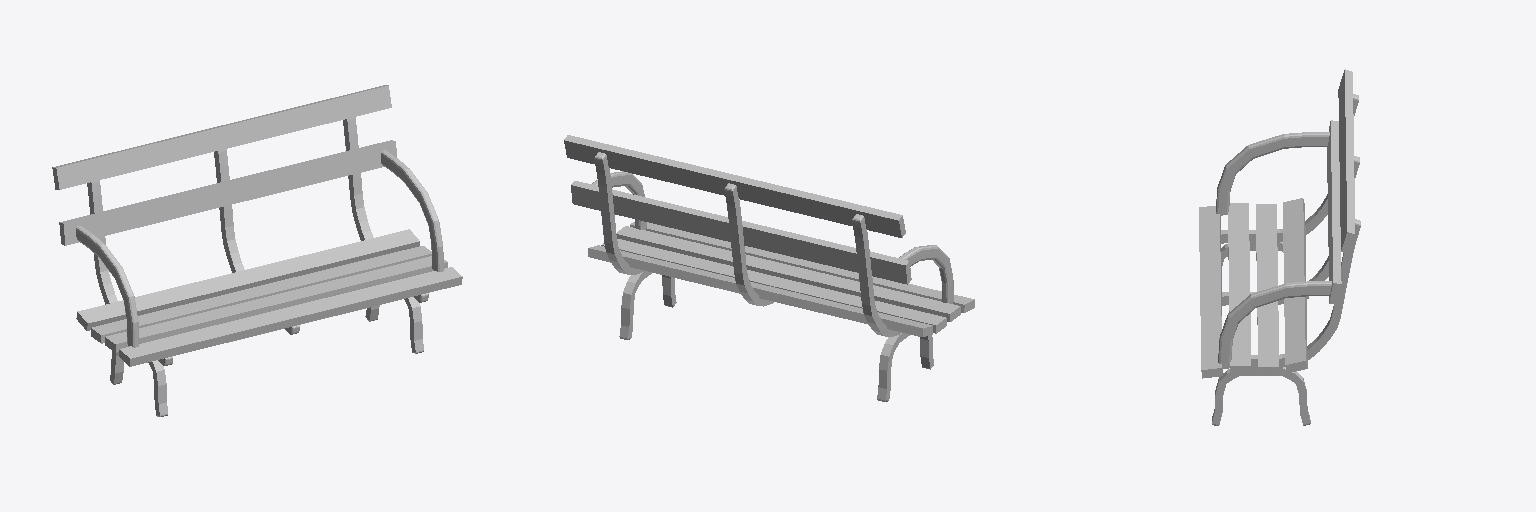
The model's file is Bench_Shop.obj.
The picture shows the model from 3 angles: view 1: azimuth 30°, elevation 25°; view 2: azimuth 150°, elevation 25°; view 3: azimuth 270°, elevation 25°; orthographic projection.
Visible parts, largest first — view 1: Bench4 City_Decor Bench_Bar9, Bench4 City_Decor Bench_Bar7, Bench4 City_Decor Bench_Bar3, Bench4 City_Decor Bench_Bar4, Bench4 City_Decor Bench_Bar2, Bench_Bar1 Bench4 City_Decor, Bench4 City_Decor Bench_Handrest1, Bench4 City_Decor Bench_Handrest2, Bench4 City_Decor Bench_Support3, Bench4 City_Decor Bench_Support2, Bench4 City_Decor Bench_Support1, Bench4 City_Decor Bench_Leg1 (+1 smaller); view 2: Bench4 City_Decor Bench_Bar9, Bench4 City_Decor Bench_Bar7, Bench4 City_Decor Bench_Bar2, Bench4 City_Decor Bench_Bar4, Bench_Bar1 Bench4 City_Decor, Bench4 City_Decor Bench_Bar3, Bench4 City_Decor Bench_Support1, Bench4 City_Decor Bench_Support3, Bench4 City_Decor Bench_Support2, Bench4 City_Decor Bench_Handrest1, Bench4 City_Decor Bench_Leg2, Bench4 City_Decor Bench_Leg4 (+1 smaller); view 3: Bench4 City_Decor Bench_Bar3, Bench4 City_Decor Bench_Bar4, Bench_Bar1 Bench4 City_Decor, Bench4 City_Decor Bench_Bar2, Bench4 City_Decor Bench_Bar9, Bench4 City_Decor Bench_Handrest2, Bench4 City_Decor Bench_Handrest1, Bench4 City_Decor Bench_Bar7, Bench4 City_Decor Bench_Support3, Bench4 City_Decor Bench_Support1, Bench4 City_Decor Bench_Leg4, Bench4 City_Decor Bench_Leg3.
Part boxes in pixels (bbox=[...]): Bench4 City_Decor Bench_Bar9: bbox=[52, 85, 391, 189]; Bench4 City_Decor Bench_Bar7: bbox=[59, 140, 396, 245]; Bench4 City_Decor Bench_Bar3: bbox=[119, 267, 462, 366]; Bench4 City_Decor Bench_Bar4: bbox=[76, 229, 419, 330]; Bench4 City_Decor Bench_Bar2: bbox=[105, 256, 447, 352]; Bench_Bar1 Bench4 City_Decor: bbox=[91, 246, 431, 343]; Bench4 City_Decor Bench_Handrest1: bbox=[76, 226, 138, 347]; Bench4 City_Decor Bench_Handrest2: bbox=[381, 150, 443, 271]; Bench4 City_Decor Bench_Support3: bbox=[343, 117, 428, 302]; Bench4 City_Decor Bench_Support2: bbox=[214, 149, 299, 334]; Bench4 City_Decor Bench_Support1: bbox=[87, 180, 172, 365]; Bench4 City_Decor Bench_Leg1: bbox=[148, 360, 167, 416]; Bench4 City_Decor Bench_Bar9: bbox=[564, 135, 905, 237]; Bench4 City_Decor Bench_Bar7: bbox=[571, 181, 911, 284]; Bench4 City_Decor Bench_Bar2: bbox=[616, 226, 960, 321]; Bench4 City_Decor Bench_Bar4: bbox=[588, 245, 932, 336]; Bench_Bar1 Bench4 City_Decor: bbox=[601, 239, 946, 333]; Bench4 City_Decor Bench_Bar3: bbox=[630, 222, 974, 312]; Bench4 City_Decor Bench_Support1: bbox=[852, 214, 901, 336]; Bench4 City_Decor Bench_Support3: bbox=[594, 152, 643, 274]; Bench4 City_Decor Bench_Support2: bbox=[724, 183, 773, 306]; Bench4 City_Decor Bench_Handrest1: bbox=[899, 245, 953, 303]; Bench4 City_Decor Bench_Leg2: bbox=[877, 333, 909, 401]; Bench4 City_Decor Bench_Leg4: bbox=[619, 271, 651, 339]; Bench4 City_Decor Bench_Bar3: bbox=[1199, 206, 1222, 378]; Bench4 City_Decor Bench_Bar4: bbox=[1283, 198, 1307, 372]; Bench_Bar1 Bench4 City_Decor: bbox=[1256, 204, 1278, 375]; Bench4 City_Decor Bench_Bar2: bbox=[1228, 203, 1250, 374]; Bench4 City_Decor Bench_Bar9: bbox=[1338, 69, 1354, 253]; Bench4 City_Decor Bench_Handrest2: bbox=[1218, 281, 1331, 364]; Bench4 City_Decor Bench_Handrest1: bbox=[1216, 132, 1329, 215]; Bench4 City_Decor Bench_Bar7: bbox=[1327, 120, 1341, 304]; Bench4 City_Decor Bench_Support3: bbox=[1223, 219, 1360, 368]; Bench4 City_Decor Bench_Support1: bbox=[1221, 94, 1358, 243]; Bench4 City_Decor Bench_Leg4: bbox=[1257, 367, 1310, 425]; Bench4 City_Decor Bench_Leg3: bbox=[1212, 368, 1256, 425].
Size of the model in its own units: 10.08 by 6.06 by 4.24.